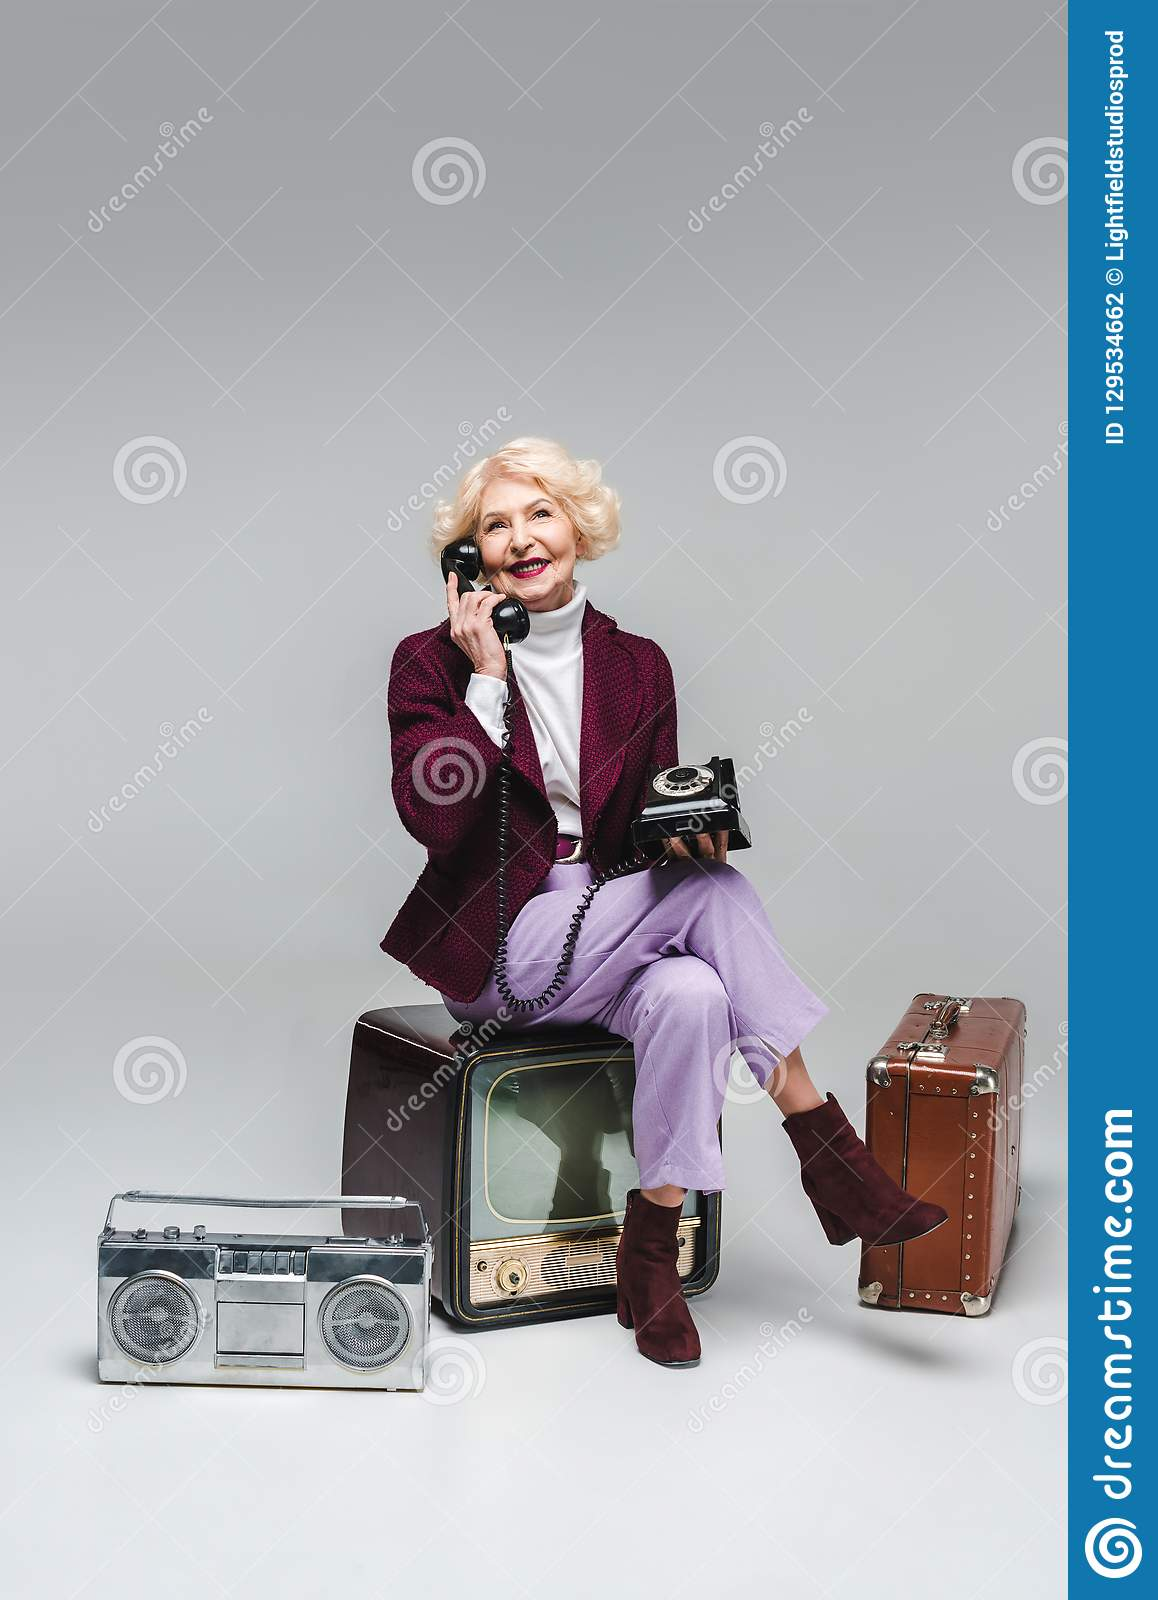phone: (445, 539, 527, 650)
talk: (432, 491, 569, 671)
